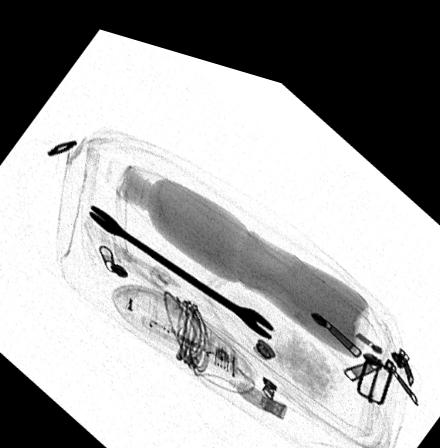Wrench: (85, 196, 276, 325)
